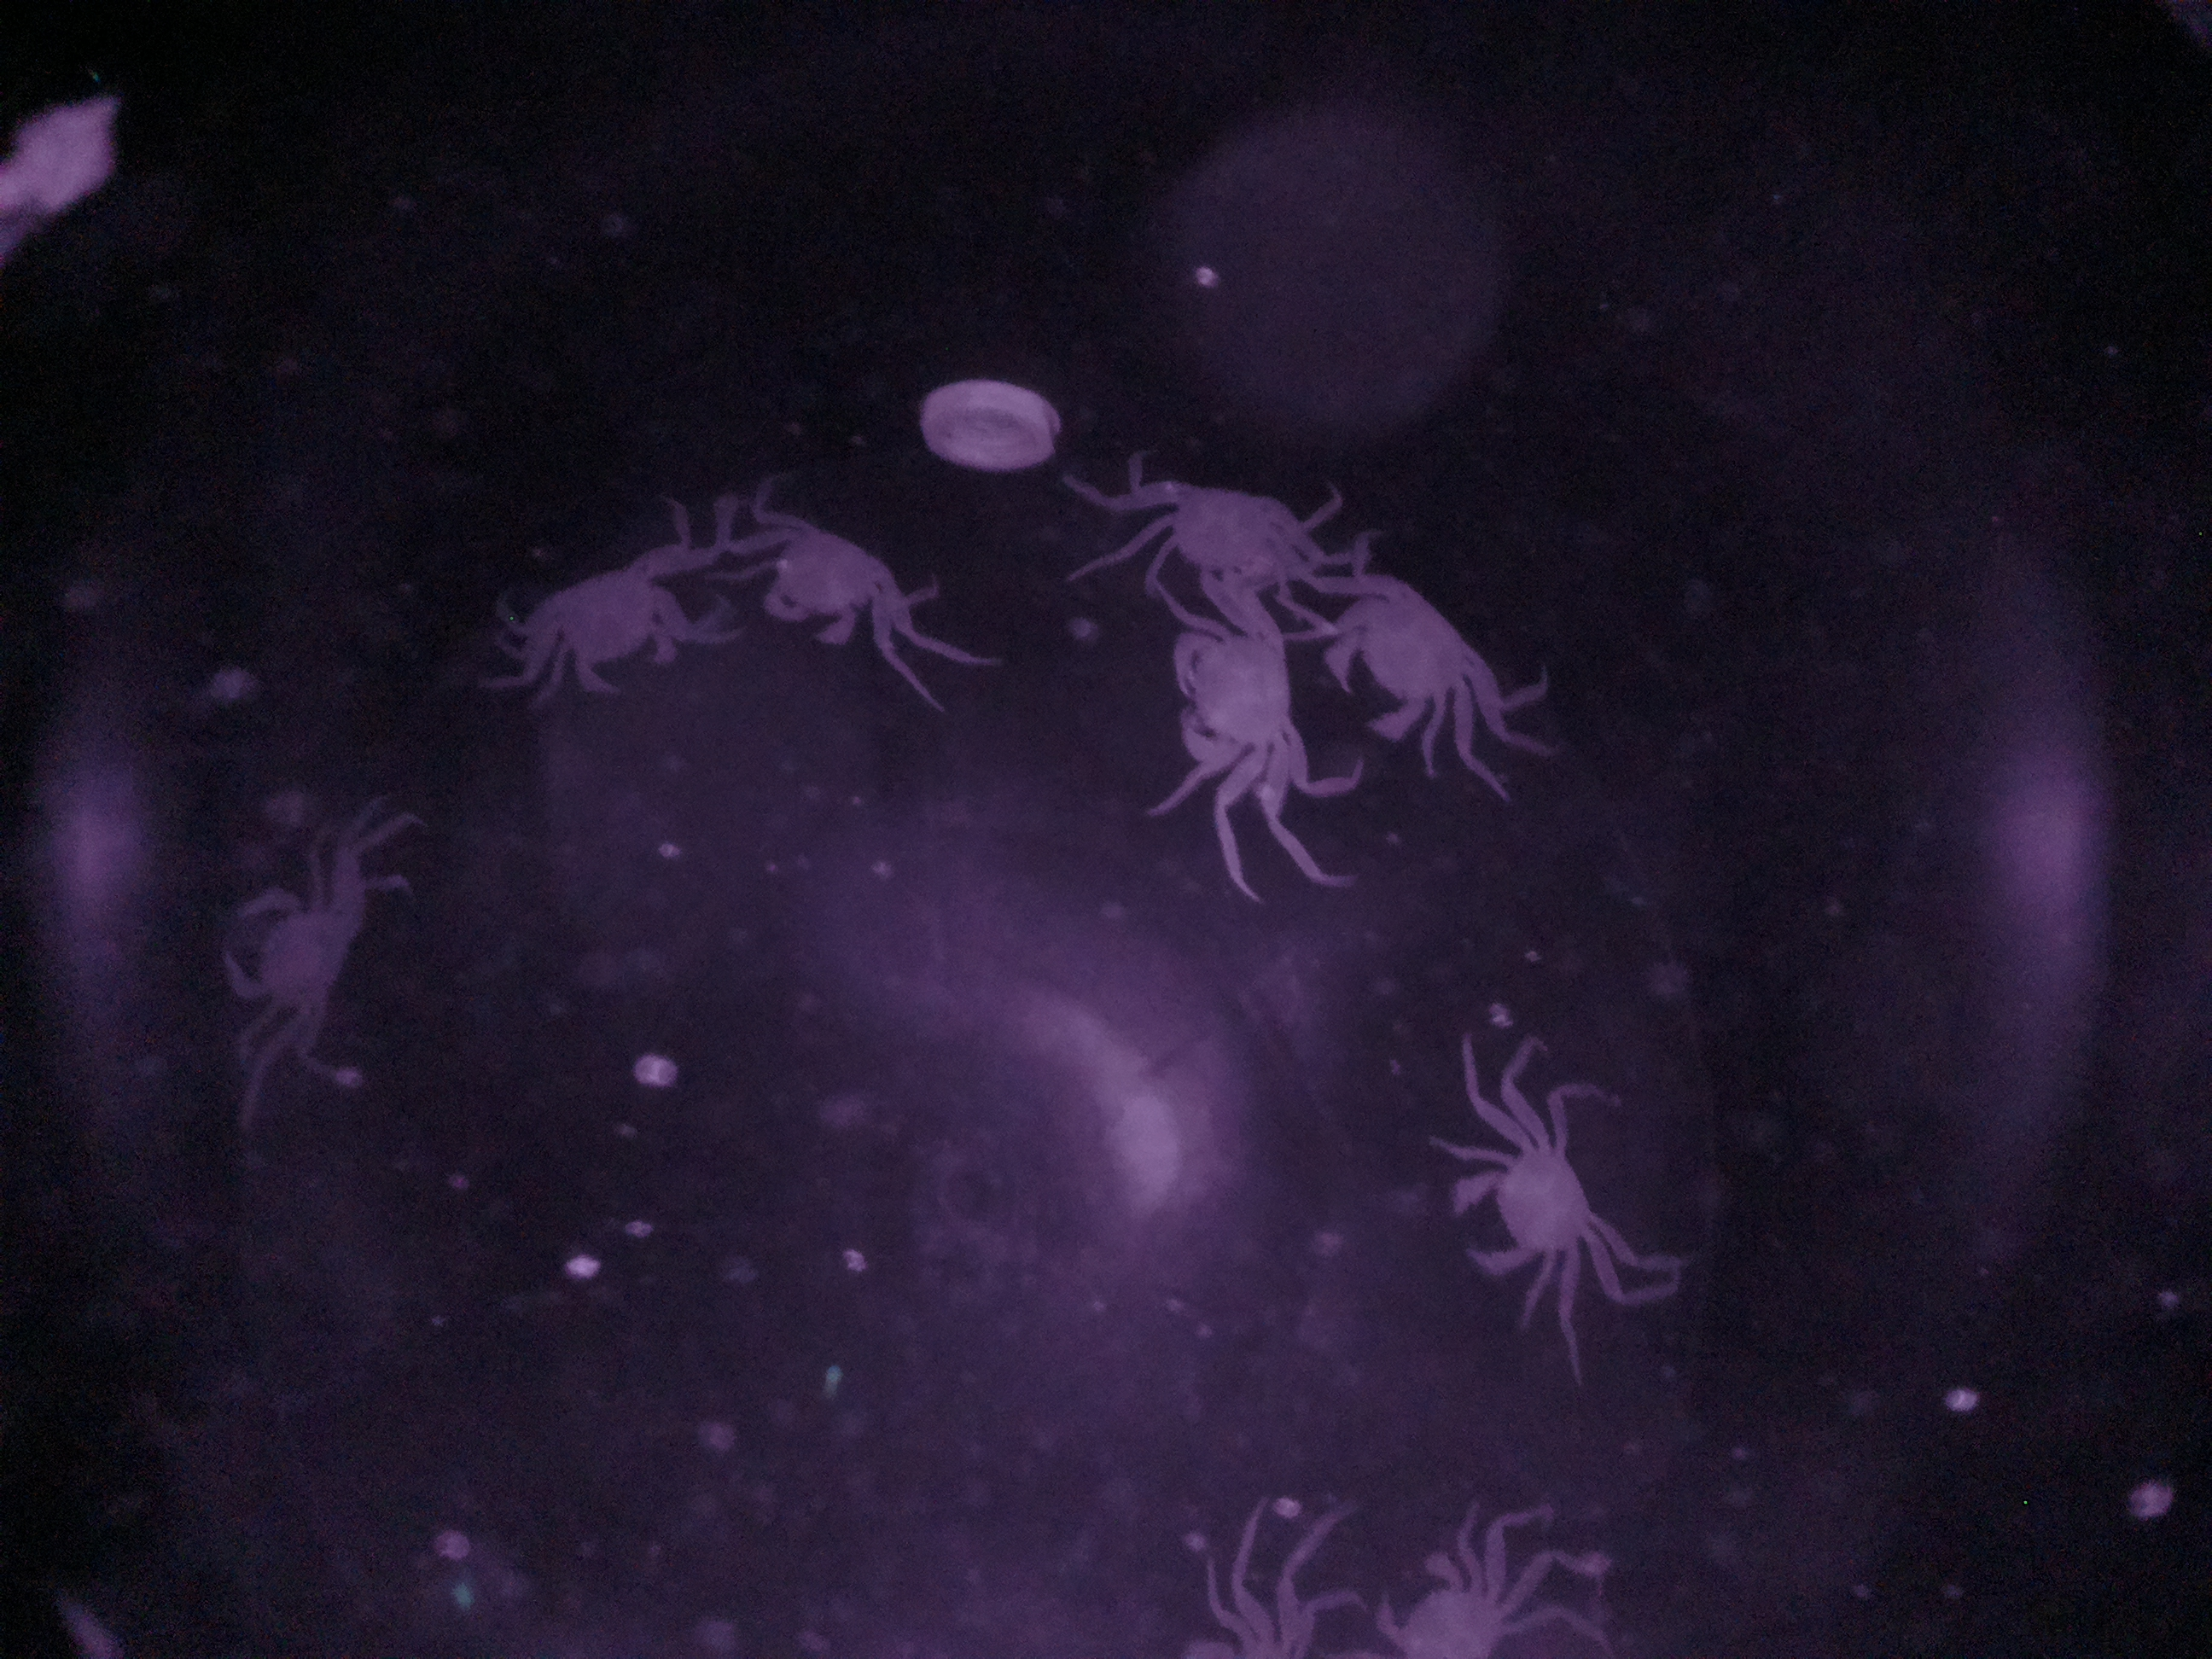Crab: (1430, 1080, 1642, 1328), (1294, 561, 1533, 758), (1157, 582, 1284, 849), (510, 547, 711, 716), (204, 873, 392, 1049), (740, 509, 930, 664)
